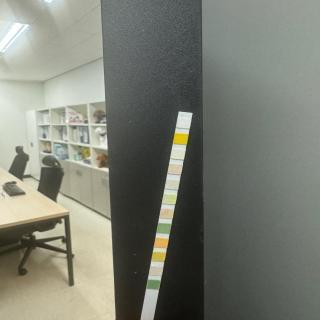mark: (168, 163, 182, 176), (177, 117, 190, 129), (175, 133, 187, 145), (157, 223, 170, 234), (155, 238, 169, 248), (162, 194, 176, 204), (166, 179, 178, 190), (147, 280, 159, 290), (150, 266, 162, 276), (172, 149, 184, 159), (154, 252, 165, 262), (161, 209, 173, 218)
